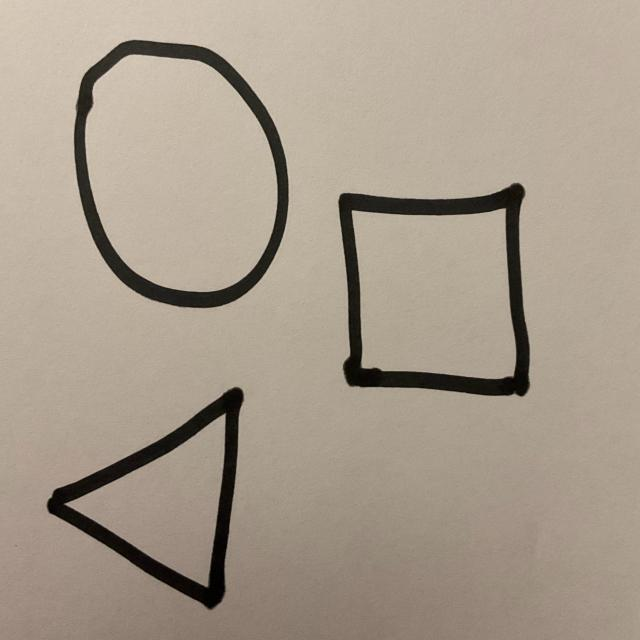Dreieck: (46, 388, 245, 612)
Kreis: (71, 40, 290, 311)
Quadrat: (337, 184, 531, 399)
